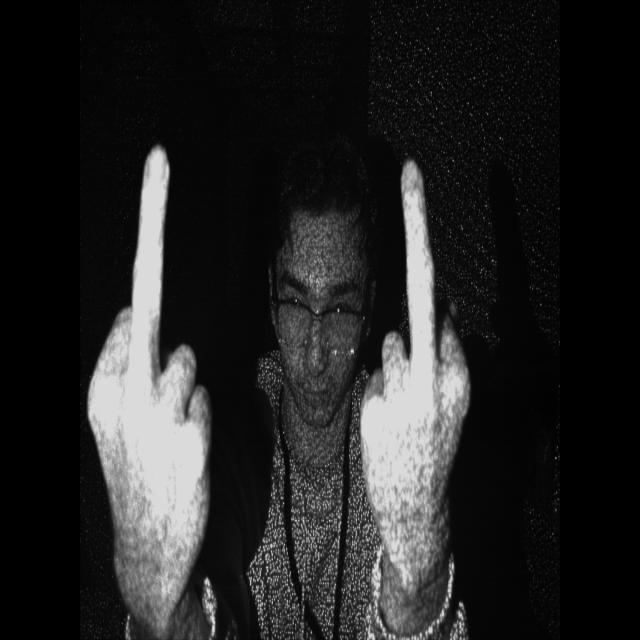FUCK YOU: (70, 126, 228, 624), (356, 141, 474, 593)
